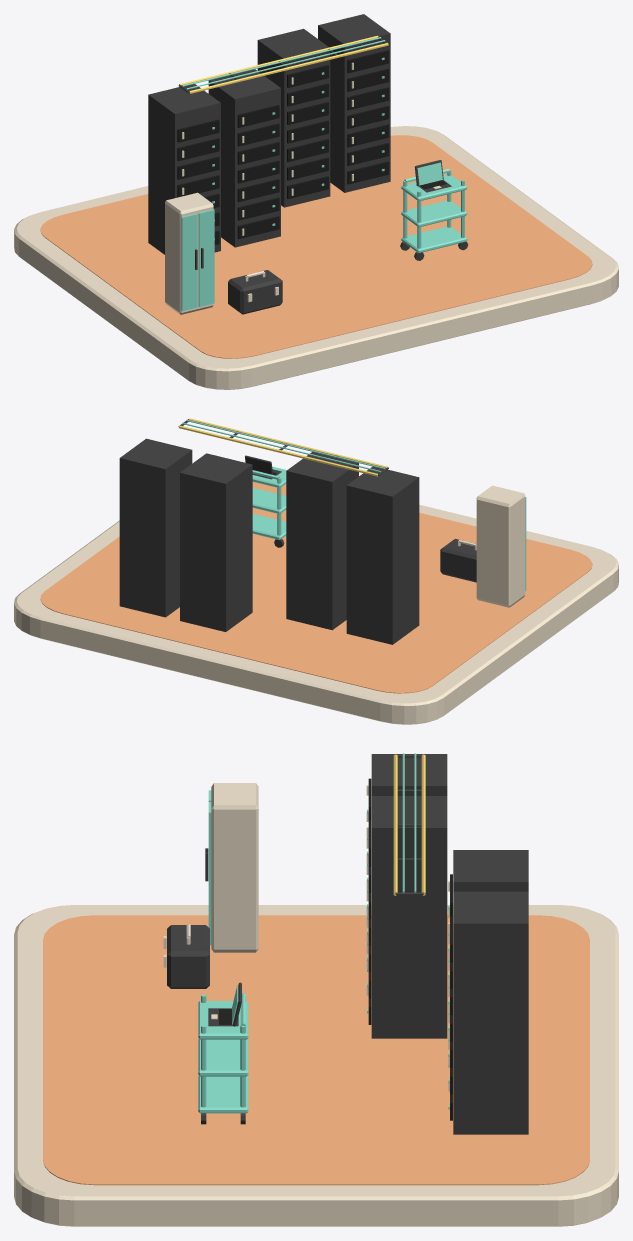
File: room.fbx
The picture shows the model from 3 angles, top to bottom: view 1: azimuth 30°, elevation 25°; view 2: azimuth 150°, elevation 25°; view 3: azimuth 270°, elevation 25°; orthographic projection. The views are drawn at different scales.
Visible parts, largest first — view 1: COM-02 Floor Surface, COM-01 Rounded Base Direct, Server case, Server case.003, Server case.001, Server case.002, Equipment case, Case, Door.001, Door, Tray, Tray.001 (+28 smaller); view 2: COM-02 Floor Surface, COM-01 Rounded Base Direct, Server case, Server case.002, Server case.003, Server case.001, Equipment case, Case, Cable rail.001, Tray, Tray.001, Cable rail (+2 smaller); view 3: COM-02 Floor Surface, COM-01 Rounded Base Direct, Server case.003, Server case.001, Equipment case, Server case.002, Server case, Case, Tray, Tray.001, Tray.002, Cable rail.001 (+1 smaller).
Part boxes in pixels (x1,y1,x2,y2): COM-02 Floor Surface: (40,135,592,358); COM-01 Rounded Base Direct: (14,126,618,389); Server case: (148,84,220,254); Server case.003: (318,14,390,192); Server case.001: (208,69,280,247); Server case.002: (257,28,330,207); Equipment case: (165,192,213,314); Case: (228,270,282,314); Door.001: (198,209,214,306); Door: (181,213,197,311); Tray: (401,226,467,253); Tray.001: (401,200,467,227); COM-02 Floor Surface: (40,482,592,693); COM-01 Rounded Base Direct: (14,462,618,724); Server case: (346,466,419,644); Server case.002: (180,453,252,631); Server case.003: (119,438,192,617); Server case.001: (286,452,358,630); Equipment case: (476,485,525,607); Case: (440,538,476,582); Cable rail.001: (179,425,377,476); Tray: (252,513,286,540); Tray.001: (252,488,286,514); Cable rail: (189,418,388,468); COM-02 Floor Surface: (43,915,589,1185); COM-01 Rounded Base Direct: (14,905,618,1226); Server case.003: (453,891,528,1134); Server case.001: (371,796,447,1038); Equipment case: (211,783,258,952); Server case.002: (453,850,528,891); Server case: (371,754,447,795); Case: (167,925,209,988); Tray: (198,1075,248,1113); Tray.001: (198,1039,248,1076); Tray.002: (198,1001,248,1039); Cable rail.001: (421,754,425,895).
Size of the model in its own units: 600 by 246 by 520.
